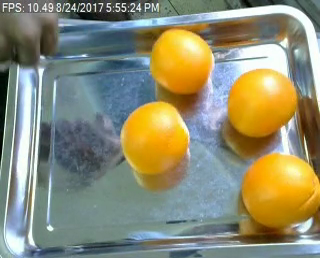Orange: (242, 151, 320, 230), (121, 101, 191, 175), (226, 68, 297, 139), (149, 26, 214, 93)
